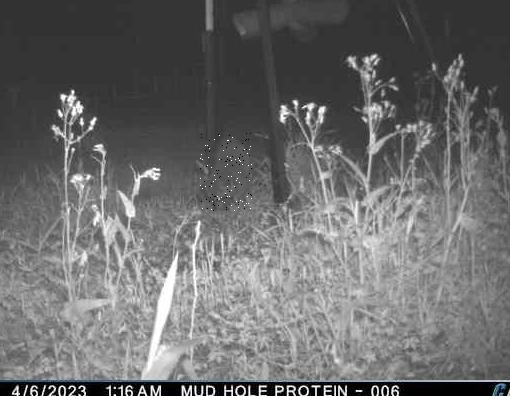Raccoon: (200, 133, 253, 211)
